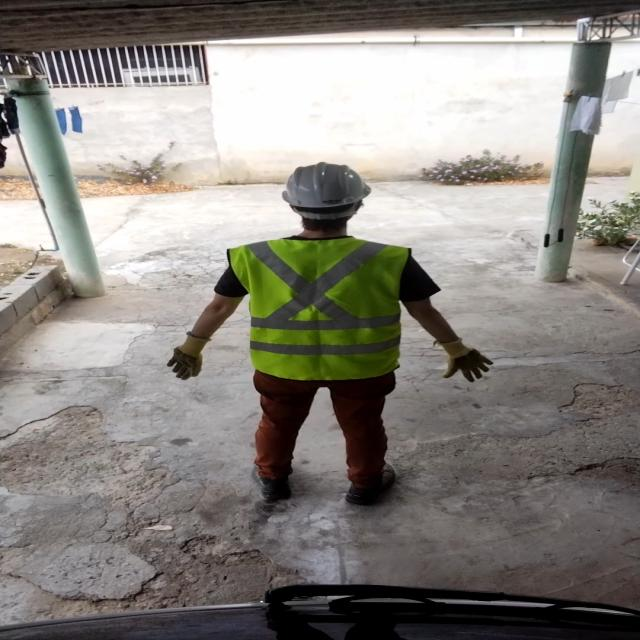glove: (422, 332, 493, 388), (163, 332, 225, 382)
helmet: (270, 162, 378, 220)
pants: (249, 375, 398, 477)
vest: (224, 236, 422, 376)
